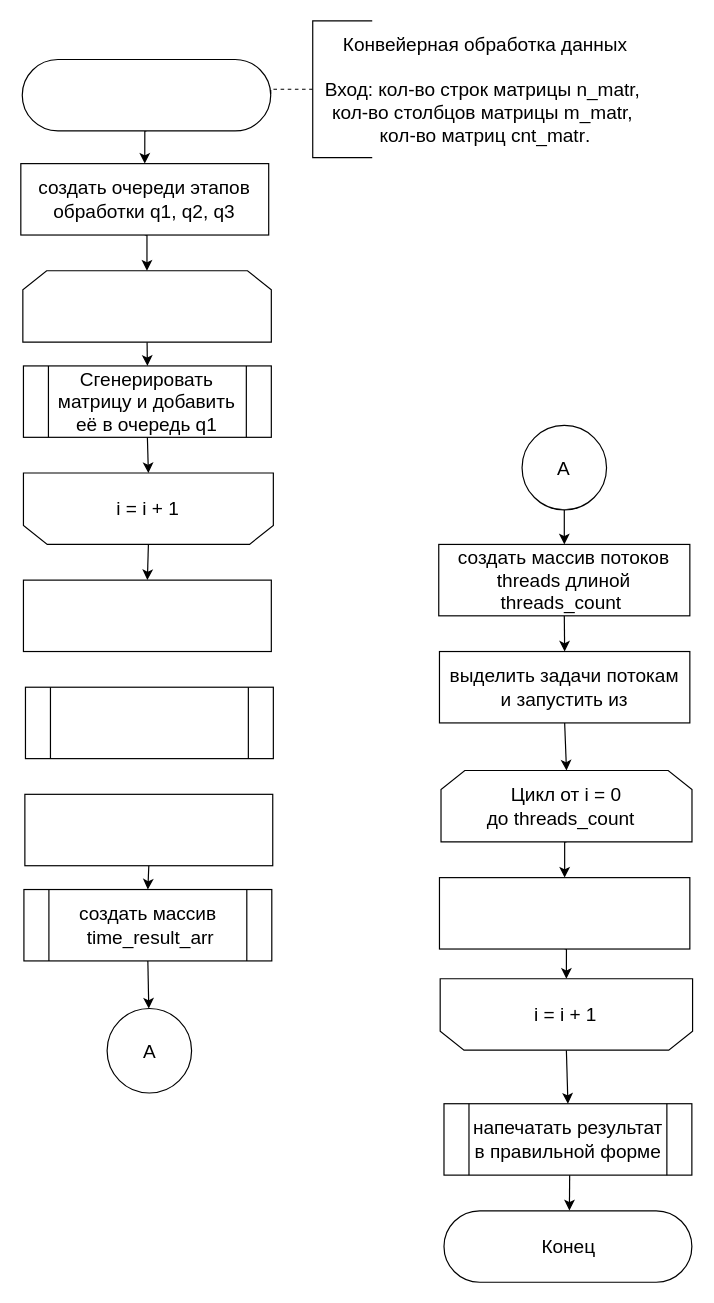
Some shapes in this 714 by 1303 pixel diagram are drawn without their labels. The box of each missing label's shape, as (x1, y1, x2, y2) in pixels:
замерить текущее время (time_begin): (24, 793, 273, 866)
Начало: (21, 58, 271, 131)
создать массив matrix_state_arr: (24, 686, 273, 759)
создать переменные q1_is_empty, q2_is_empty типа bool: (22, 579, 271, 652)
Указать, что главный поток должен дождаться потока threads[i]: (438, 876, 690, 949)
Цикл от i = 0 до cnt_matr: (22, 270, 271, 342)
